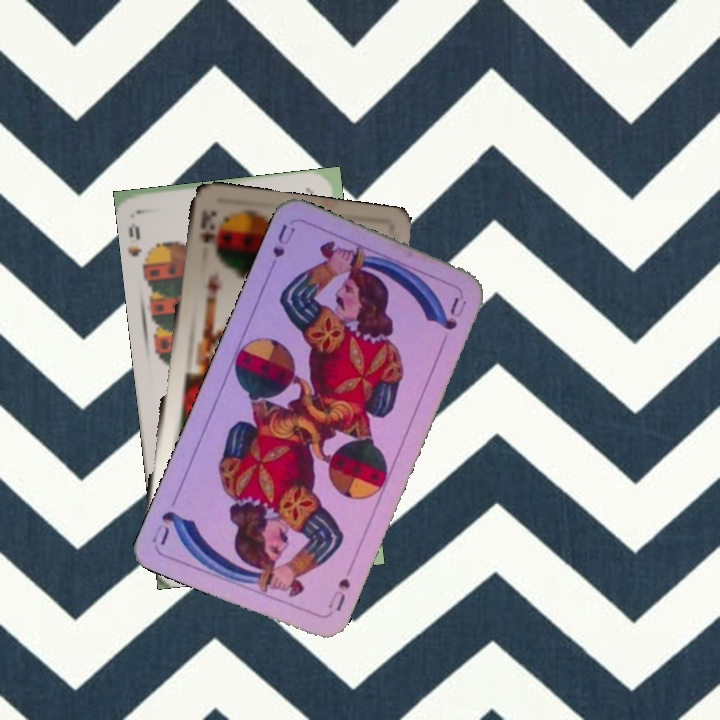S9: (124, 219, 155, 273)
SK: (195, 206, 219, 245)
SU: (264, 220, 298, 277), (324, 562, 355, 614)
